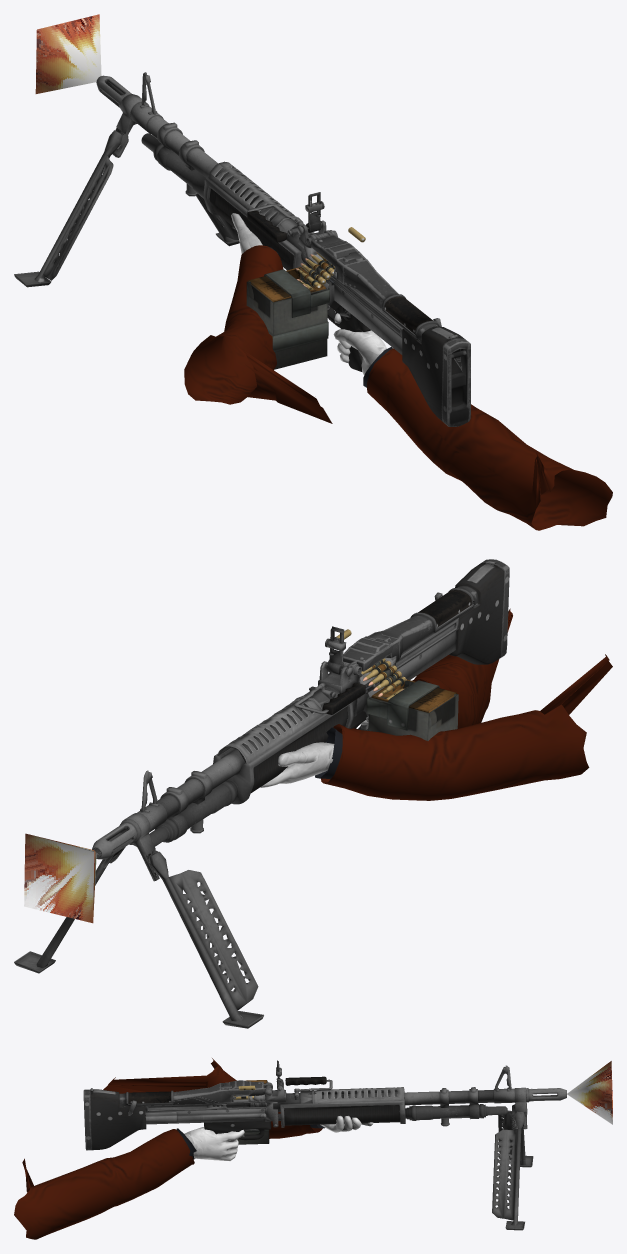
Rendered from frame_0003.obj.
3 views of the same model, one above another, from view 1: azimuth 30°, elevation 25°; view 2: azimuth 150°, elevation 25°; view 3: azimuth 270°, elevation 25° (orthographic). The views are drawn at different scales.
Parts seen in each view (by area): view 1: Mesh.005, PlayerModelMerged.001_PlayerModelMerged, Plane, Mesh.001; view 2: Mesh.005, PlayerModelMerged.001_PlayerModelMerged, Plane, Mesh.001; view 3: Mesh.005, PlayerModelMerged.001_PlayerModelMerged, Plane.
Boxes of the visible parts, bbox=[...] form: Mesh.005: bbox=[14, 72, 470, 426]; PlayerModelMerged.001_PlayerModelMerged: bbox=[184, 213, 612, 530]; Plane: bbox=[35, 14, 101, 93]; Mesh.001: bbox=[296, 251, 334, 287]; Mesh.005: bbox=[14, 559, 509, 1028]; PlayerModelMerged.001_PlayerModelMerged: bbox=[260, 608, 612, 800]; Plane: bbox=[24, 833, 96, 923]; Mesh.001: bbox=[361, 658, 406, 697]; Mesh.005: bbox=[83, 1060, 566, 1230]; PlayerModelMerged.001_PlayerModelMerged: bbox=[14, 1058, 373, 1239]; Plane: bbox=[567, 1061, 612, 1124].
Size of the model in its own units: 0.9492 by 0.7087 by 2.55.
